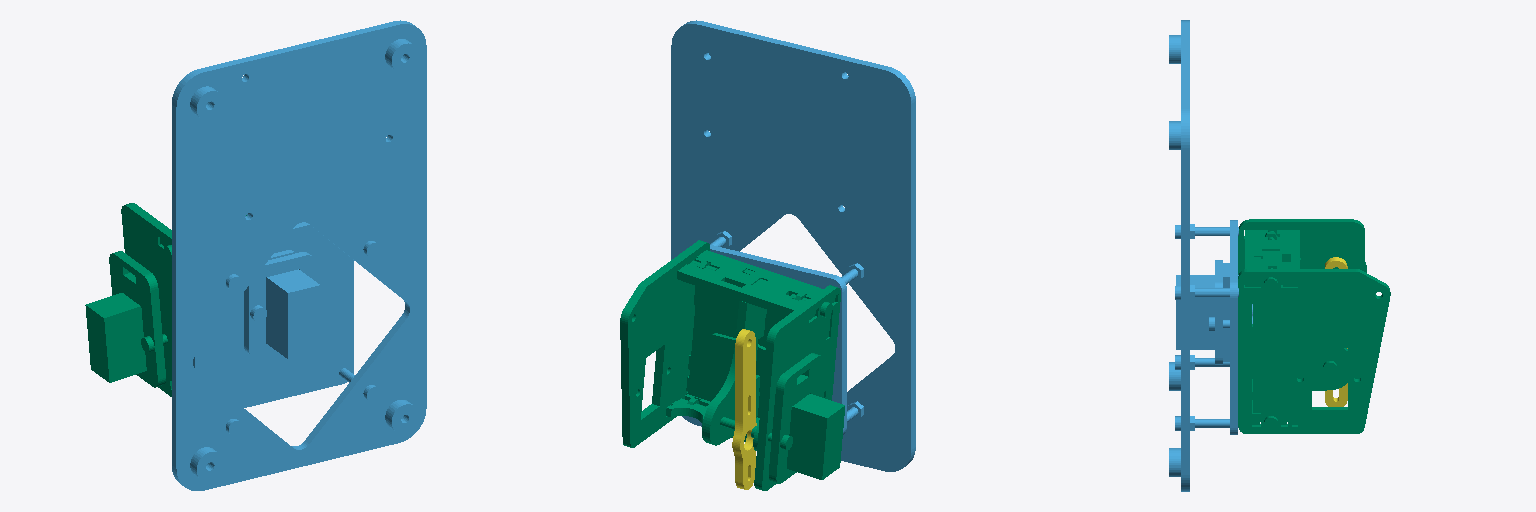
The robot description file, URDF, robot "robot":
<robot name="robot">
    <link name="map"/>
    <link name="base">
        <visual>
            <geometry>
                <mesh filename="package://eye_on_you/meshes/base.stl" />
            </geometry>
        </visual>
        <collision>
            <geometry>
                <mesh filename="package://eye_on_you/meshes/base.stl" />
            </geometry>
        </collision>
    </link>
    <link name="home">
        <visual>
            <origin xyz="-1.47 -31.7 40.5" />  
            <geometry>
                <mesh filename="package://eye_on_you/meshes/home.stl" />
            </geometry>
        </visual>
        <collision>
            <origin xyz="-1.47 -31.7 40.5" />  
            <geometry>
                <mesh filename="package://eye_on_you/meshes/home.stl" />
            </geometry>
        </collision>
    </link>
    <link name="arm">
        <visual>
            <origin xyz="0 0 0" rpy="0 0 1.57" />  
            <geometry>
                <mesh filename="package://eye_on_you/meshes/arm.stl" />
            </geometry>
        </visual>
        <collision>
            <origin xyz="0 0 0" rpy="0 0 1.57" />  
            <geometry>
                <mesh filename="package://eye_on_you/meshes/arm.stl" />
            </geometry>
        </collision>
    </link>

    <joint name="world_robot_joint" type="fixed">
        <axis xyz="0 0 1" />
        <origin xyz="0 0 0"/>
        <parent link="map"/>
        <child link="base"/>
    </joint>

    <joint name="base_home_joint" type="revolute">
        <axis xyz="0 1 0" />
        <limit lower="-0.7853" upper="0.7853" effort="1000.0" velocity="0.5"/>
        <origin xyz="1.47 31.7 -40.5"/>  <!-- Changed center of rotation -->
        <parent link="base"/>
        <child link="home"/>
    </joint>

    <joint name="home_arm_joint" type="revolute">
        <axis xyz="1 0 0" />
        <limit lower="-1.57" upper="1.0" effort="1000.0" velocity="0.5"/>
        <origin xyz="-13.5 26 -18.5"/>  
        <parent link="home"/>
        <child link="arm"/>
    </joint>

</robot>    

--- Render facts (derived) ---
The picture shows the robot from 3 angles, left to right: view 1: azimuth 30°, elevation 25°; view 2: azimuth 150°, elevation 25°; view 3: azimuth 270°, elevation 25°; orthographic projection.
Robot: robot — 4 links, 3 joints (2 revolute, 1 fixed); root link map; default pose: all joints at 0.
Visible links, largest first — view 1: base, home; view 2: base, home, arm; view 3: home, base, arm.
Boxes of the visible links, x1=… form: base: x1=172, y1=20, x2=426, y2=490; home: x1=85, y1=203, x2=246, y2=396; base: x1=671, y1=20, x2=915, y2=471; home: x1=620, y1=240, x2=844, y2=490; arm: x1=732, y1=329, x2=756, y2=489; home: x1=1238, y1=219, x2=1390, y2=433; base: x1=1169, y1=20, x2=1252, y2=491; arm: x1=1325, y1=257, x2=1347, y2=406.
Bounding box of the posed robot: 90.71 × 76.59 × 145 m (x, y, z).
Meshes: 3 distinct files referenced, 3 mesh visuals loaded (3 binary STL).